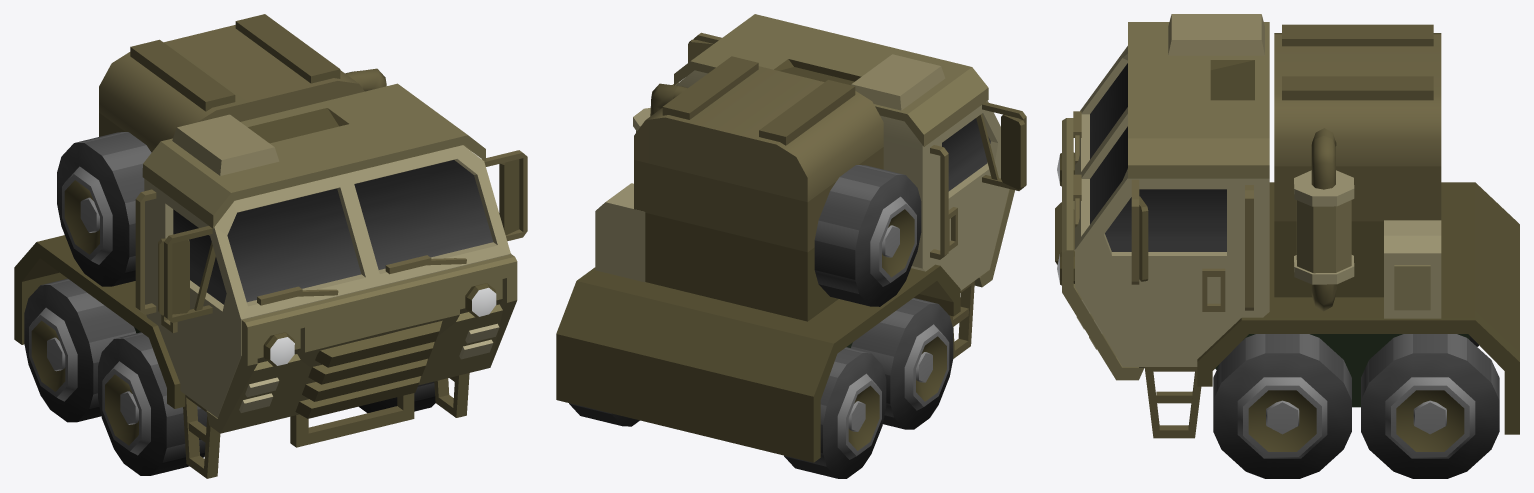
Rendered from head_SP4_1.fbx.
3 renders of one model, left to right at view 1: azimuth 30°, elevation 25°; view 2: azimuth 150°, elevation 25°; view 3: azimuth 270°, elevation 25°, orthographic. The views are drawn at different scales.
Visible parts, largest first — view 1: head_SP4_1; view 2: head_SP4_1; view 3: head_SP4_1.
Part boxes in pixels (left/top/right/bottom): head_SP4_1: left=14, top=14, right=527, bottom=478; head_SP4_1: left=556, top=14, right=1026, bottom=478; head_SP4_1: left=1055, top=14, right=1519, bottom=478.
Size of the model in its own units: 1896 by 1731 by 2070.
